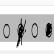correct: (44, 20, 53, 40)
no answer: (31, 21, 39, 41), (3, 22, 10, 40)
not correct: (16, 17, 26, 48)
